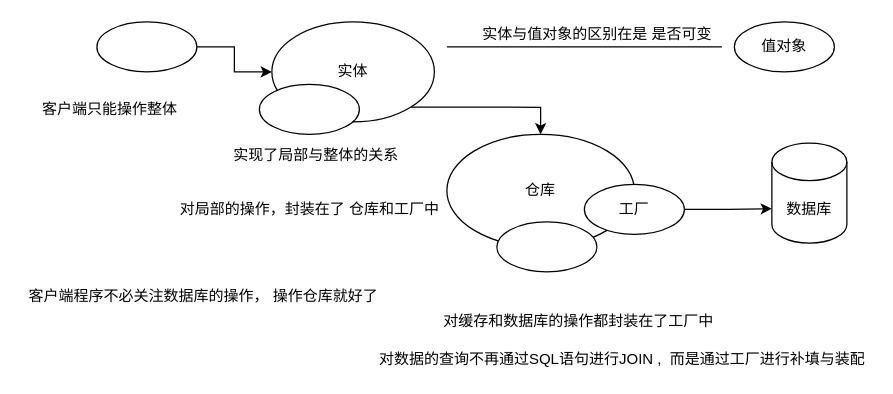
The diagram is 893 pixels wide and 394 high, and some of its shapes have lost their labels. Here are the shapes that lost their labels. From the top down, the centre of each, then its label:
At point 146,46: "服务".
At point 308,108: "聚合".
At point 546,246: "缓存".
